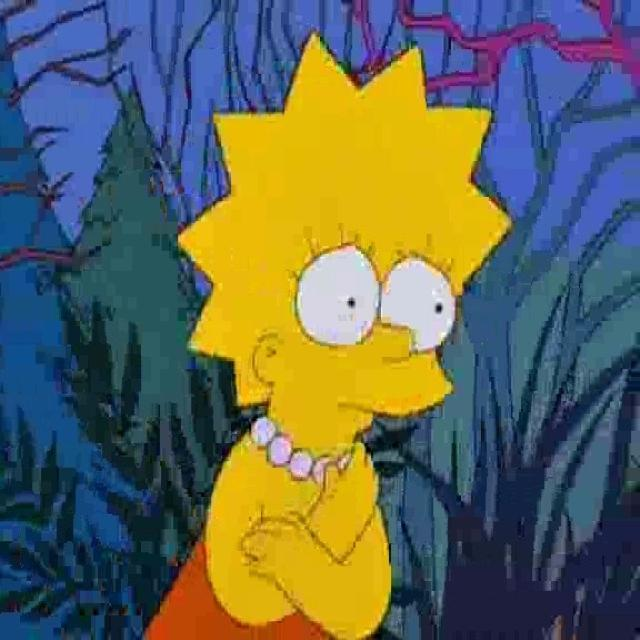Lisa Simpson: (171, 29, 516, 485)
